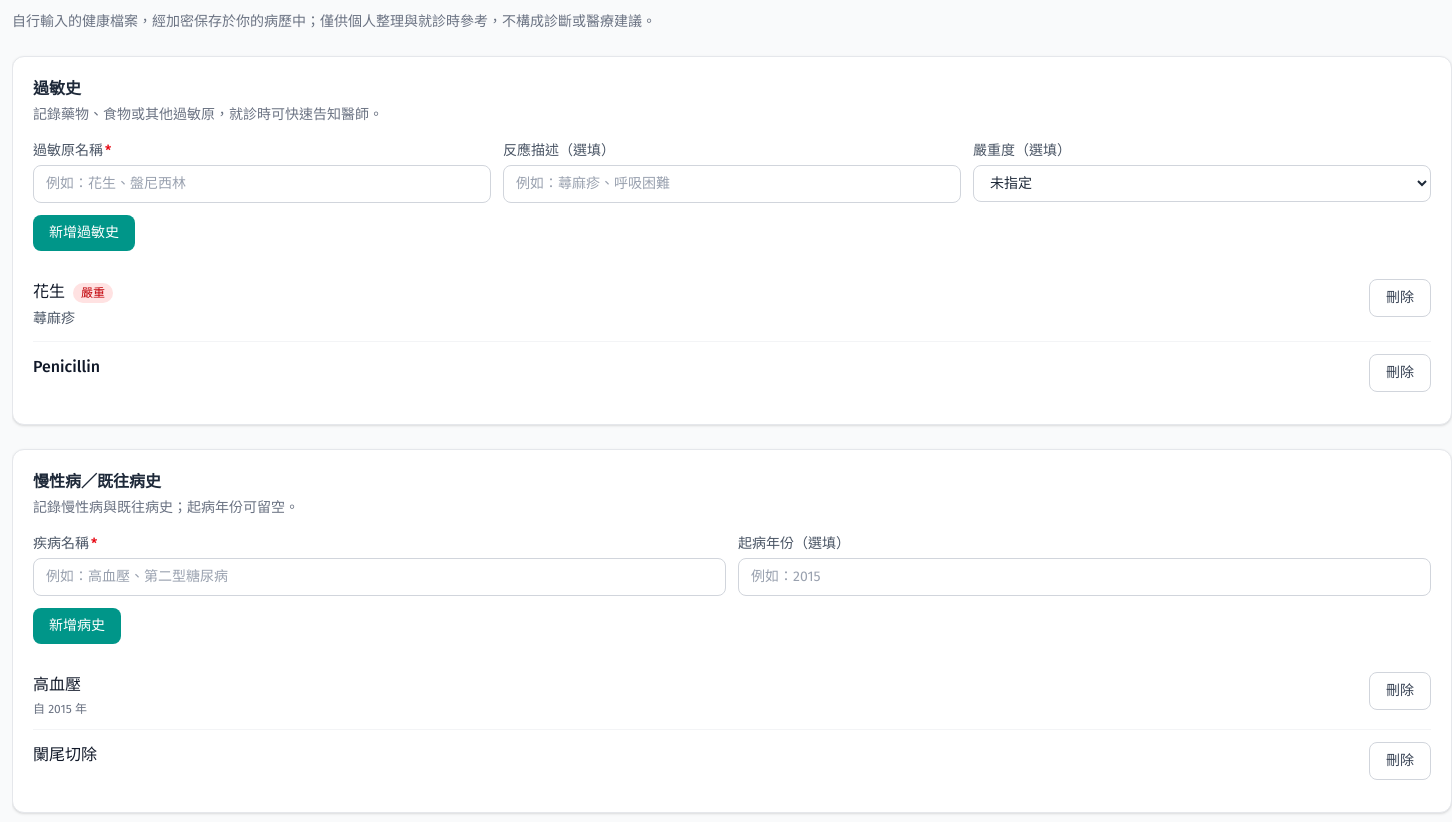
HealthProfile › allergies › rejects a duplicate allergy name regardless of case and surrounding spaces
Type "  penicillin " into the field labelled "過敏原名稱*". click: coordinates (262, 184)
box: x1=33 y1=165 x2=491 y2=203
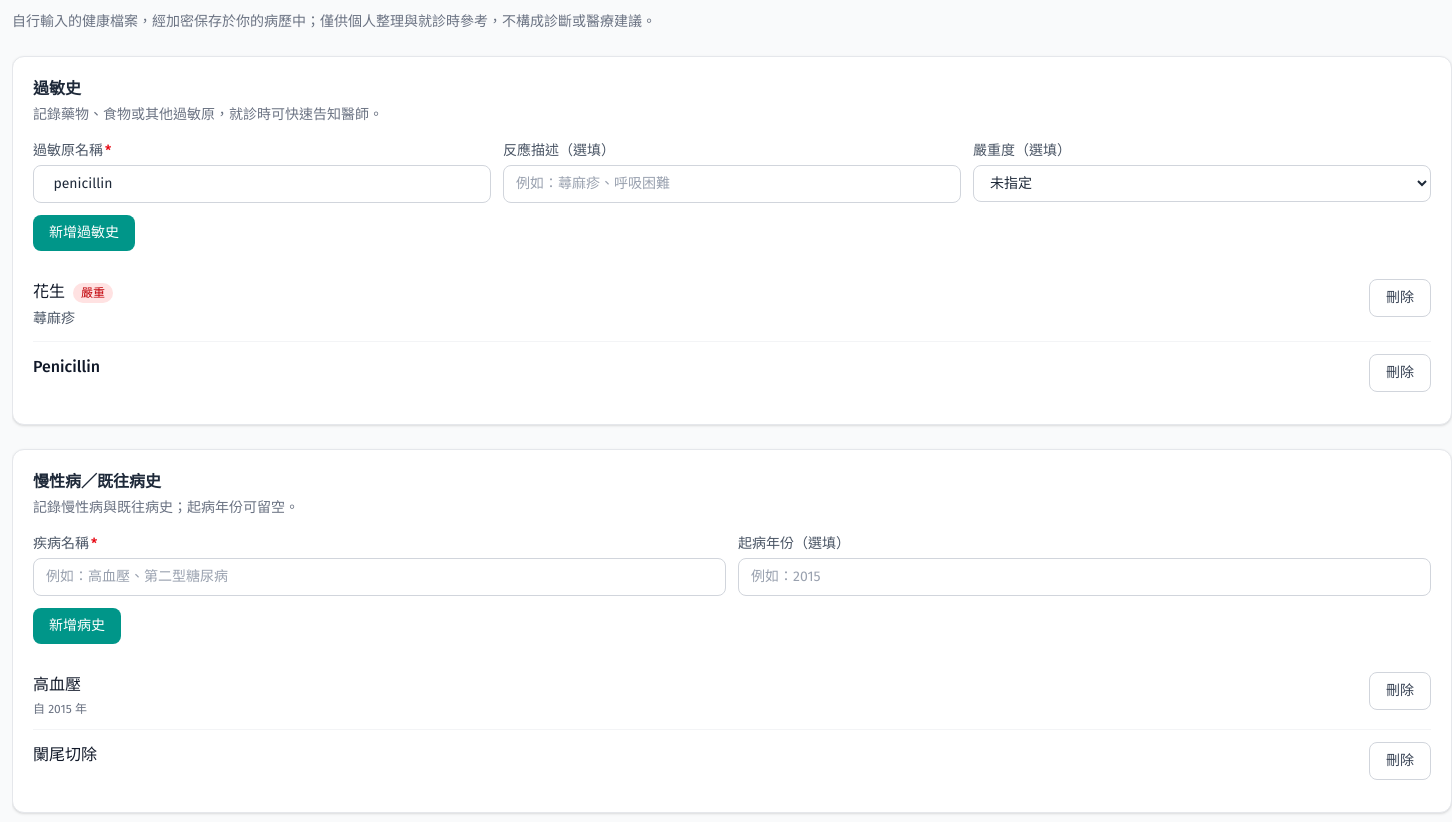
Click the button "新增過敏史". click: coordinates (84, 233)
box: x1=33 y1=215 x2=135 y2=251
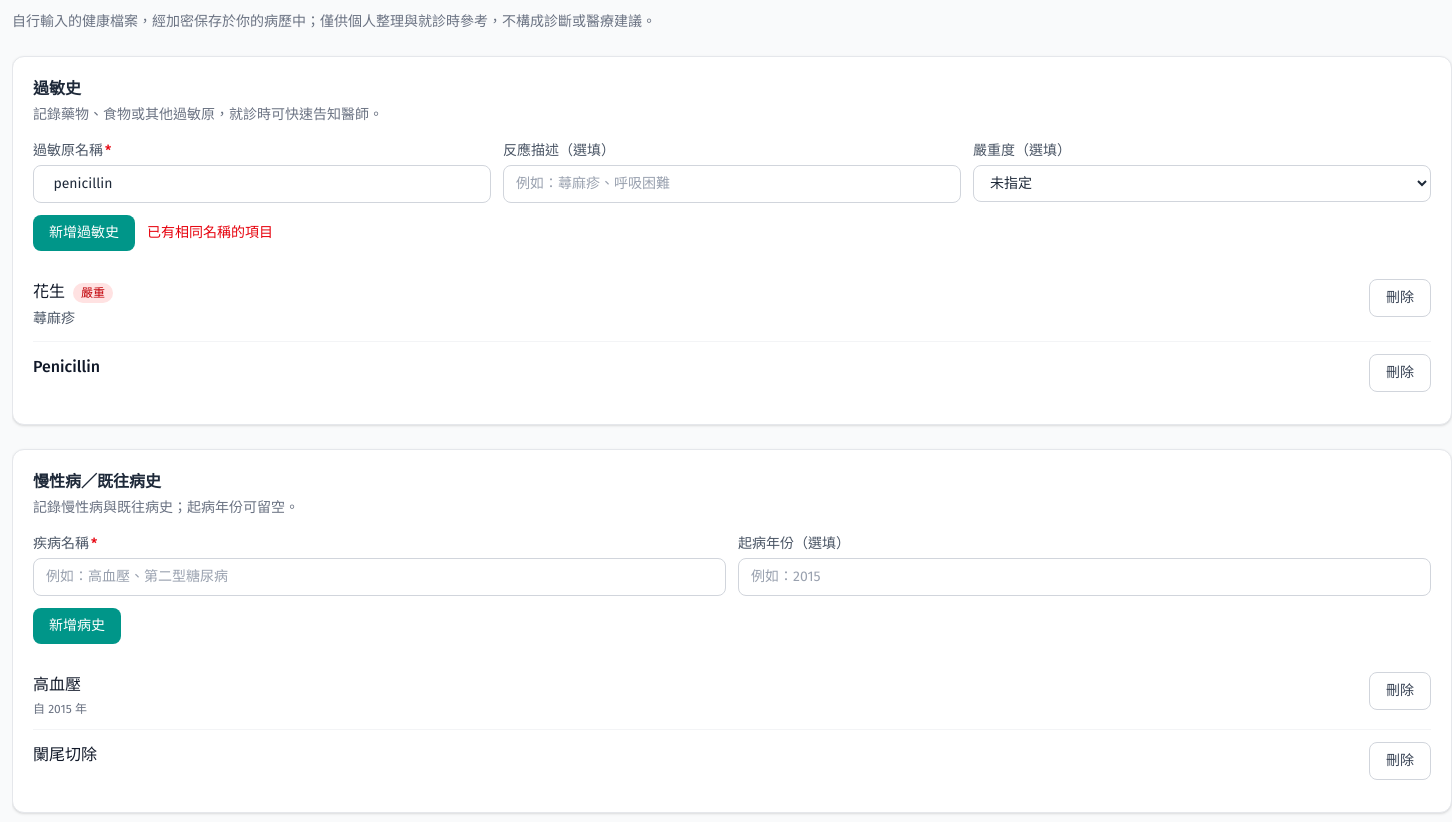
Expected: the message reads "已有相同名稱的項目", x1=147 y1=224 x2=273 y2=241
